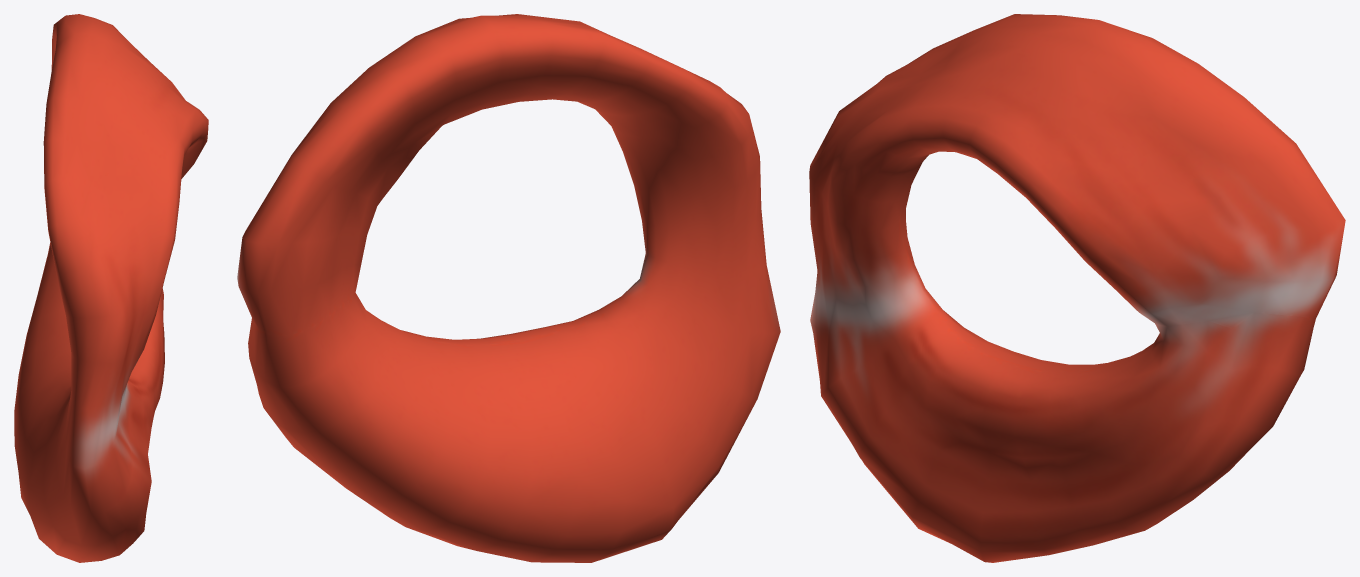
Rendered from Orbicularis Occuli.glb.
3 renders of one model, left to right at view 1: azimuth 30°, elevation 25°; view 2: azimuth 150°, elevation 25°; view 3: azimuth 270°, elevation 25°, orthographic. The views are drawn at different scales.
Visible parts, largest first — view 1: Orbicularis Occuli.glb; view 2: Orbicularis Occuli.glb; view 3: Orbicularis Occuli.glb.
Part boxes in pixels (x1,y1,x2,y2): Orbicularis Occuli.glb: [14, 14, 208, 562]; Orbicularis Occuli.glb: [237, 14, 780, 562]; Orbicularis Occuli.glb: [809, 14, 1345, 562].
Size of the model in its own units: 0.0493 by 0.0883 by 0.0788.
1 material, 1 textured.
